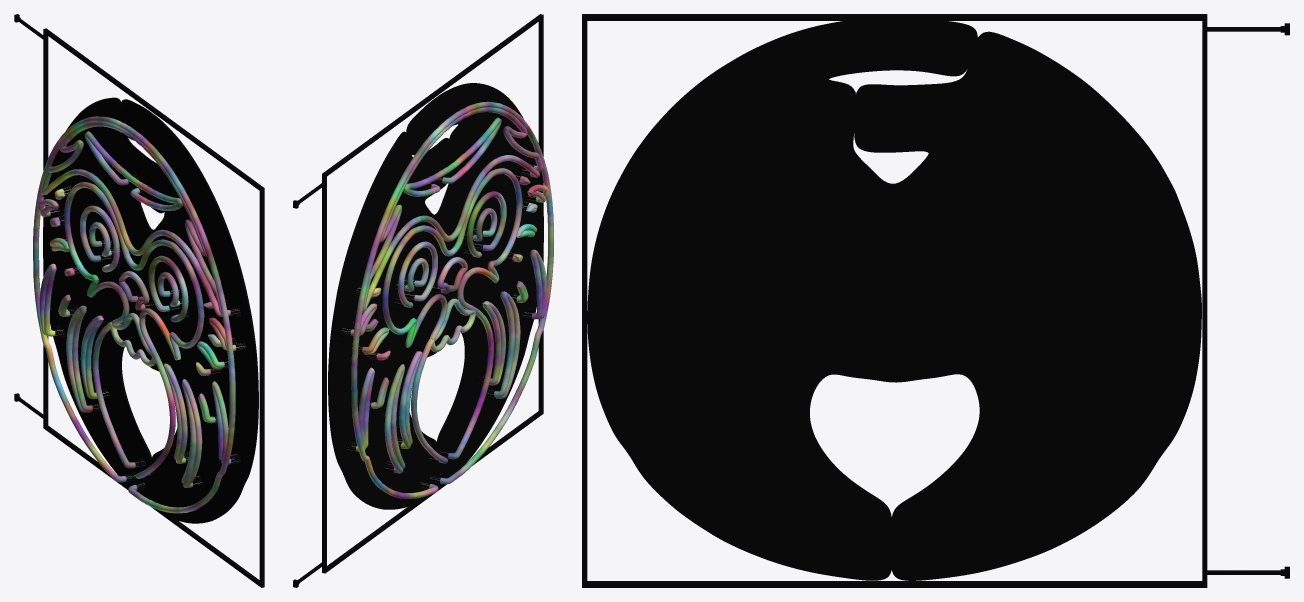
File: neonsign_13.fbx
3 views of the same model, side by side, from view 1: azimuth 30°, elevation 25°; view 2: azimuth 150°, elevation 25°; view 3: azimuth 270°, elevation 25° (orthographic). The views are drawn at different scales.
Visible parts, largest first — view 1: neonsign_13; view 2: neonsign_13; view 3: neonsign_13.
Part boxes in pixels (box(x1,y1,x2,y2)): neonsign_13: box(14, 14, 264, 587); neonsign_13: box(293, 14, 553, 587); neonsign_13: box(582, 14, 1289, 587).
Size of the model in its own units: 0.1655 by 2.41 by 2.7.
